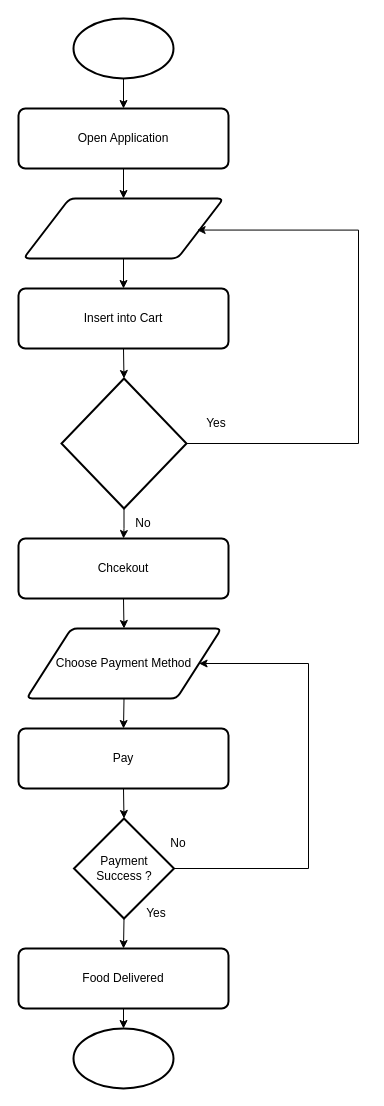
Some shapes in this 384 by 1106 pixel diagram are drawn without their labels. Here are the shapes that lost their labels. From the top down, the centre of each, then its label:
At pixel 123 48: "START".
At pixel 123 228: "Choose From Menu".
At pixel 123 443: "Do You Want Add More Food ?".
At pixel 123 1058: "End".
